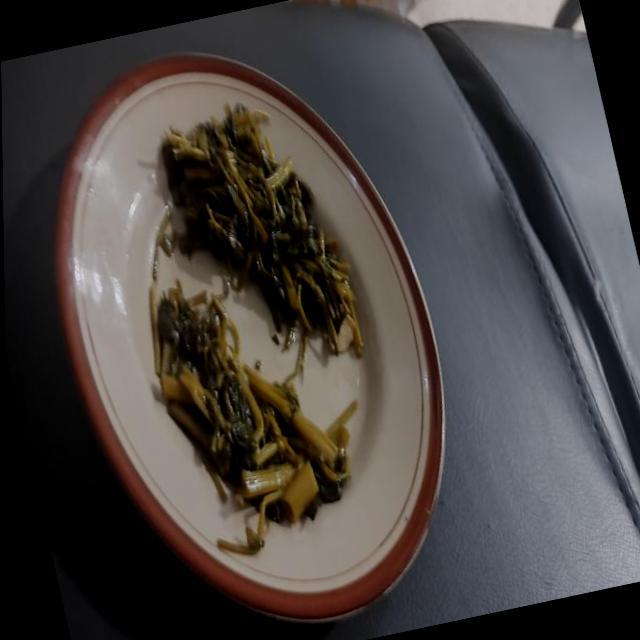tumis_kangkung: (150, 280, 357, 549), (162, 104, 362, 356)
